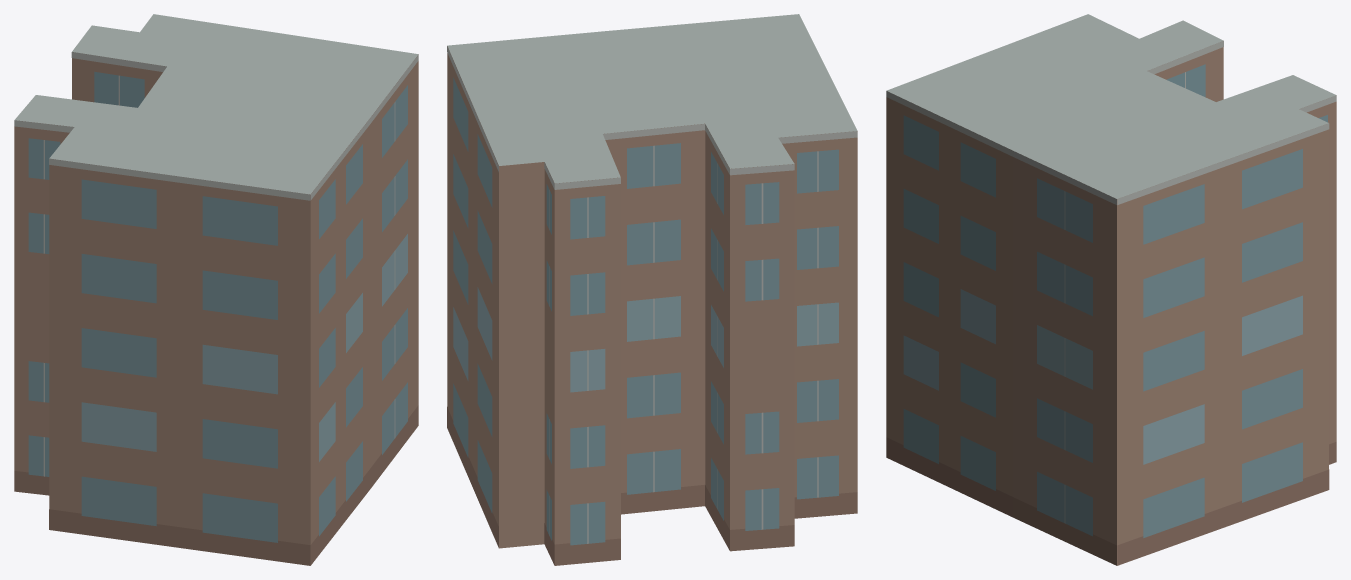
File: survey-upis-33015308.glb
3 views of the same model, side by side, from view 1: azimuth 30°, elevation 25°; view 2: azimuth 150°, elevation 25°; view 3: azimuth 270°, elevation 25° (orthographic). The views are drawn at different scales.
Parts seen in each view (by area): view 1: survey-upis-33015308.tmp; view 2: survey-upis-33015308.tmp; view 3: survey-upis-33015308.tmp.
Part boxes in pixels (bbox=[...]): survey-upis-33015308.tmp: bbox=[14, 14, 418, 565]; survey-upis-33015308.tmp: bbox=[447, 14, 857, 565]; survey-upis-33015308.tmp: bbox=[886, 14, 1336, 565].
Size of the model in its own units: 15.59 by 14.4 by 16.03.
